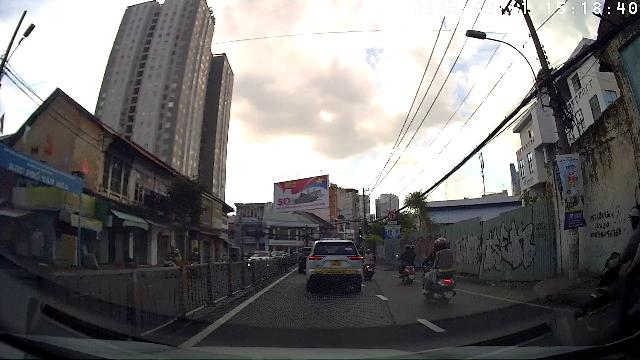124b-cam-oto-quay-dau-xe: (387, 211, 396, 221)
